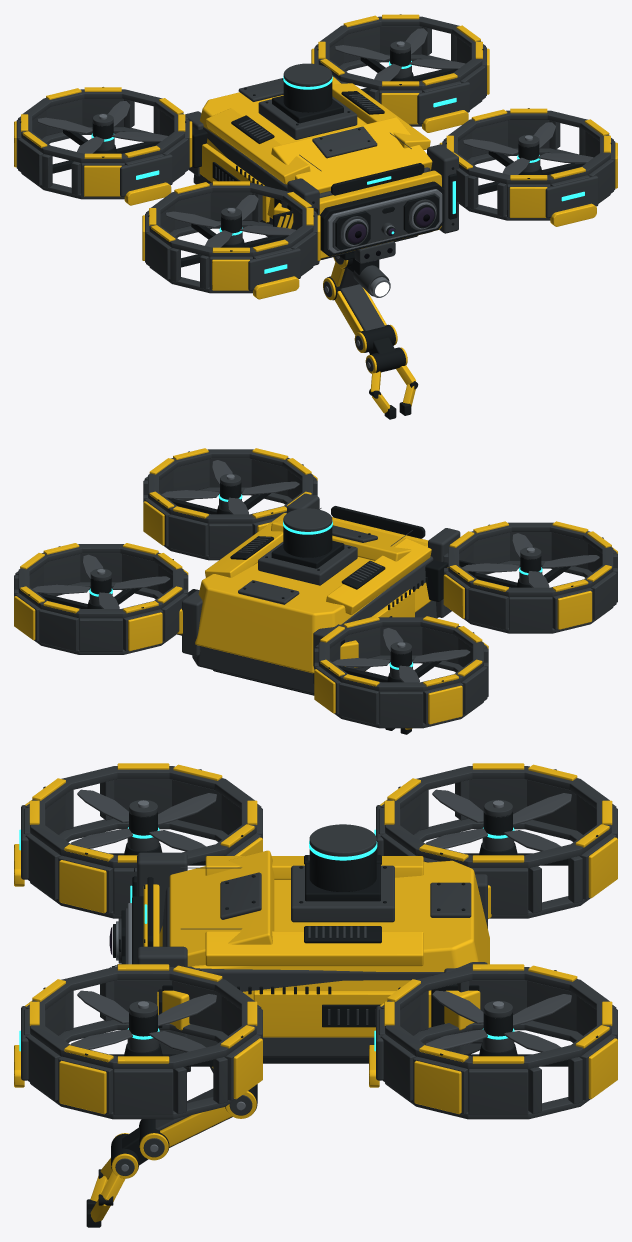
Rendered from industrial-intervention-drone.glb.
3 views of the same model, one above another, from view 1: azimuth 30°, elevation 25°; view 2: azimuth 150°, elevation 25°; view 3: azimuth 270°, elevation 25° (orthographic). The views are drawn at different scales.
Parts seen in each view (by area): view 1: Guard_RL_Geometry, Guard_FL_Geometry, Guard_FR_Geometry, Body_Armor_Geometry, Guard_RR_Geometry, Camera_Module_Geometry, Body_Geometry, Lidar_Geometry, Arm_Lower_Geometry, Propeller_RR_Geometry, Propeller_FL_Geometry, Propeller_FR_Geometry (+13 smaller); view 2: Body_Armor_Geometry, Guard_FL_Geometry, Guard_RR_Geometry, Guard_RL_Geometry, Guard_FR_Geometry, Body_Geometry, Lidar_Geometry, Camera_Module_Geometry, Propeller_FL_Geometry, Propeller_FR_Geometry, Propeller_RL_Geometry, Propeller_RR_Geometry (+8 smaller); view 3: Body_Armor_Geometry, Guard_RR_Geometry, Guard_FR_Geometry, Guard_RL_Geometry, Guard_FL_Geometry, Body_Geometry, Lidar_Geometry, Camera_Module_Geometry, Propeller_RL_Geometry, Propeller_FL_Geometry, Propeller_RR_Geometry, Propeller_FR_Geometry (+10 smaller).
Part boxes in pixels (left/top/right/bottom): Guard_RL_Geometry: left=14, top=87, right=192, bottom=205; Guard_FL_Geometry: left=142, top=180, right=320, bottom=299; Guard_FR_Geometry: left=439, top=108, right=617, bottom=226; Body_Armor_Geometry: left=199, top=77, right=432, bottom=222; Guard_RR_Geometry: left=311, top=14, right=489, bottom=132; Camera_Module_Geometry: left=287, top=144, right=458, bottom=265; Body_Geometry: left=185, top=78, right=432, bottom=259; Lidar_Geometry: left=258, top=63, right=357, bottom=139; Arm_Lower_Geometry: left=323, top=276, right=386, bottom=334; Propeller_RR_Geometry: left=335, top=28, right=465, bottom=81; Propeller_FL_Geometry: left=165, top=194, right=295, bottom=247; Propeller_FR_Geometry: left=463, top=122, right=593, bottom=174; Body_Armor_Geometry: left=195, top=508, right=431, bottom=673; Guard_FL_Geometry: left=443, top=521, right=617, bottom=633; Guard_RR_Geometry: left=14, top=543, right=188, bottom=654; Guard_RL_Geometry: left=314, top=616, right=488, bottom=728; Guard_FR_Geometry: left=143, top=448, right=317, bottom=560; Body_Geometry: left=182, top=525, right=438, bottom=695; Lidar_Geometry: left=258, top=508, right=357, bottom=585; Camera_Module_Geometry: left=287, top=493, right=460, bottom=617; Propeller_FL_Geometry: left=462, top=533, right=599, bottom=587; Propeller_FR_Geometry: left=162, top=460, right=299, bottom=514; Propeller_RL_Geometry: left=332, top=628, right=470, bottom=682; Propeller_RR_Geometry: left=32, top=554, right=170, bottom=608; Body_Armor_Geometry: left=159, top=850, right=489, bottom=1037; Guard_RR_Geometry: left=369, top=964, right=617, bottom=1119; Guard_FR_Geometry: left=14, top=964, right=262, bottom=1119; Guard_RL_Geometry: left=374, top=763, right=617, bottom=918; Guard_FL_Geometry: left=14, top=763, right=262, bottom=918; Body_Geometry: left=162, top=855, right=487, bottom=1063; Lidar_Geometry: left=291, top=824, right=394, bottom=922; Camera_Module_Geometry: left=109, top=852, right=187, bottom=1054; Propeller_RL_Geometry: left=425, top=789, right=571, bottom=851; Propeller_FL_Geometry: left=70, top=789, right=216, bottom=851; Propeller_RR_Geometry: left=425, top=990, right=571, bottom=1052; Propeller_FR_Geometry: left=70, top=990, right=216, bottom=1052.
Size of the model in its own units: 1.13 by 0.6655 by 0.9529.
